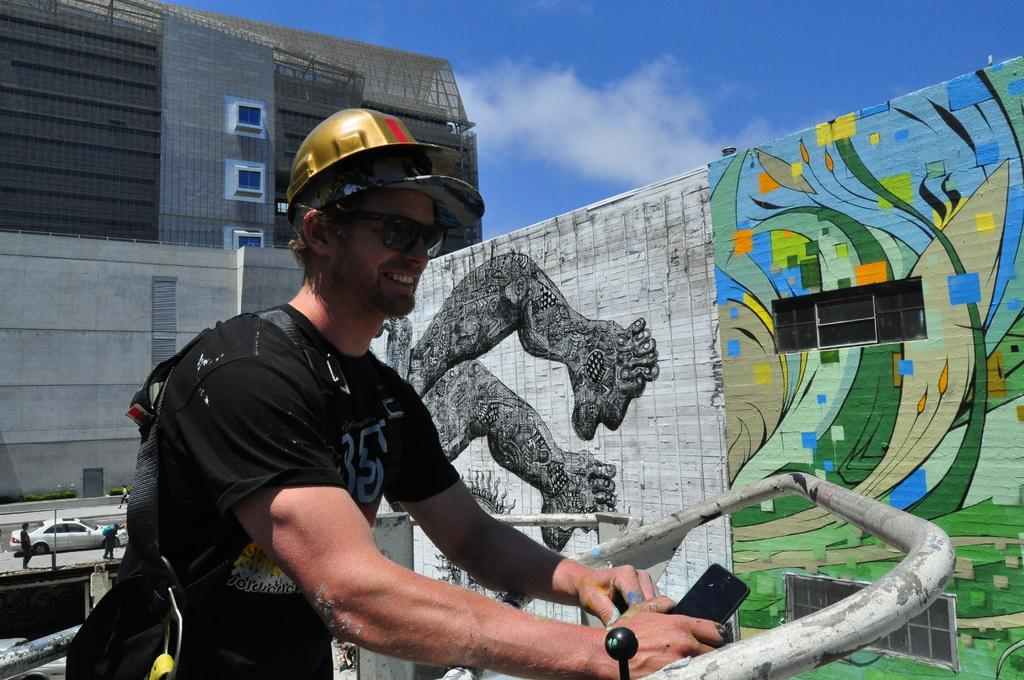helmet: (286, 107, 461, 313)
